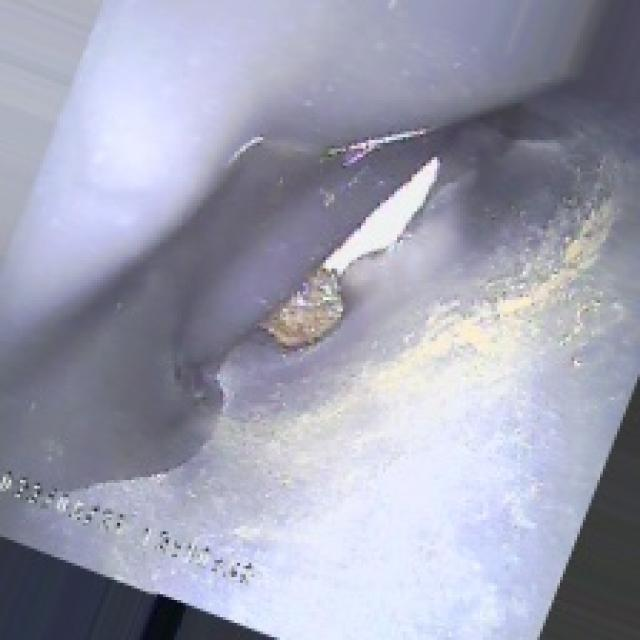shape_deformation: (66, 57, 528, 460)
